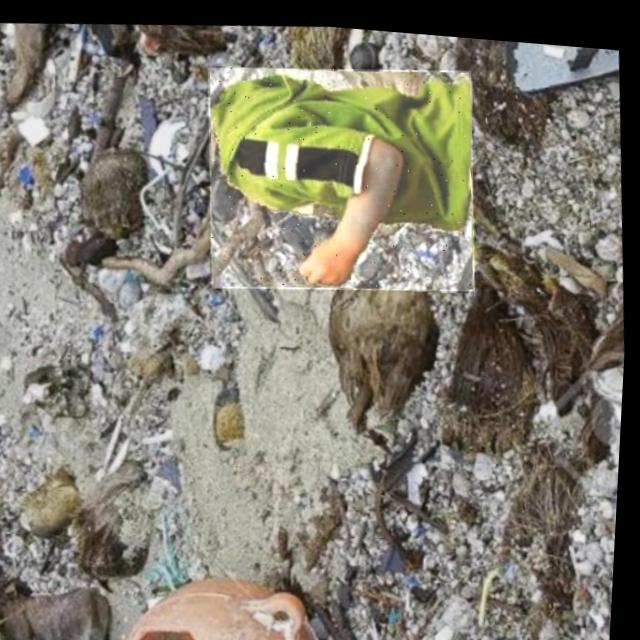Person in Rubble: (199, 44, 486, 300)
